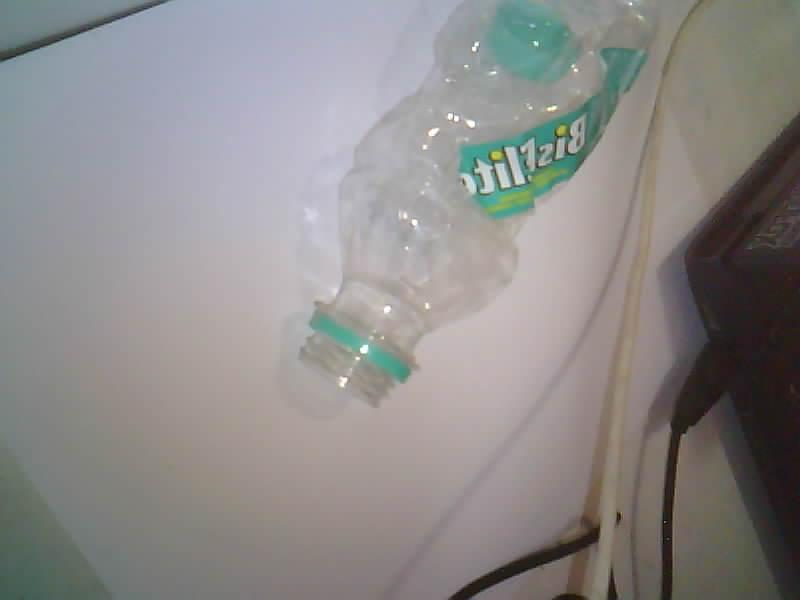non-biodegradable: (301, 0, 656, 403)
